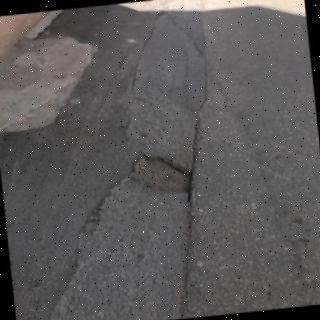pothole: (131, 156, 191, 194)
